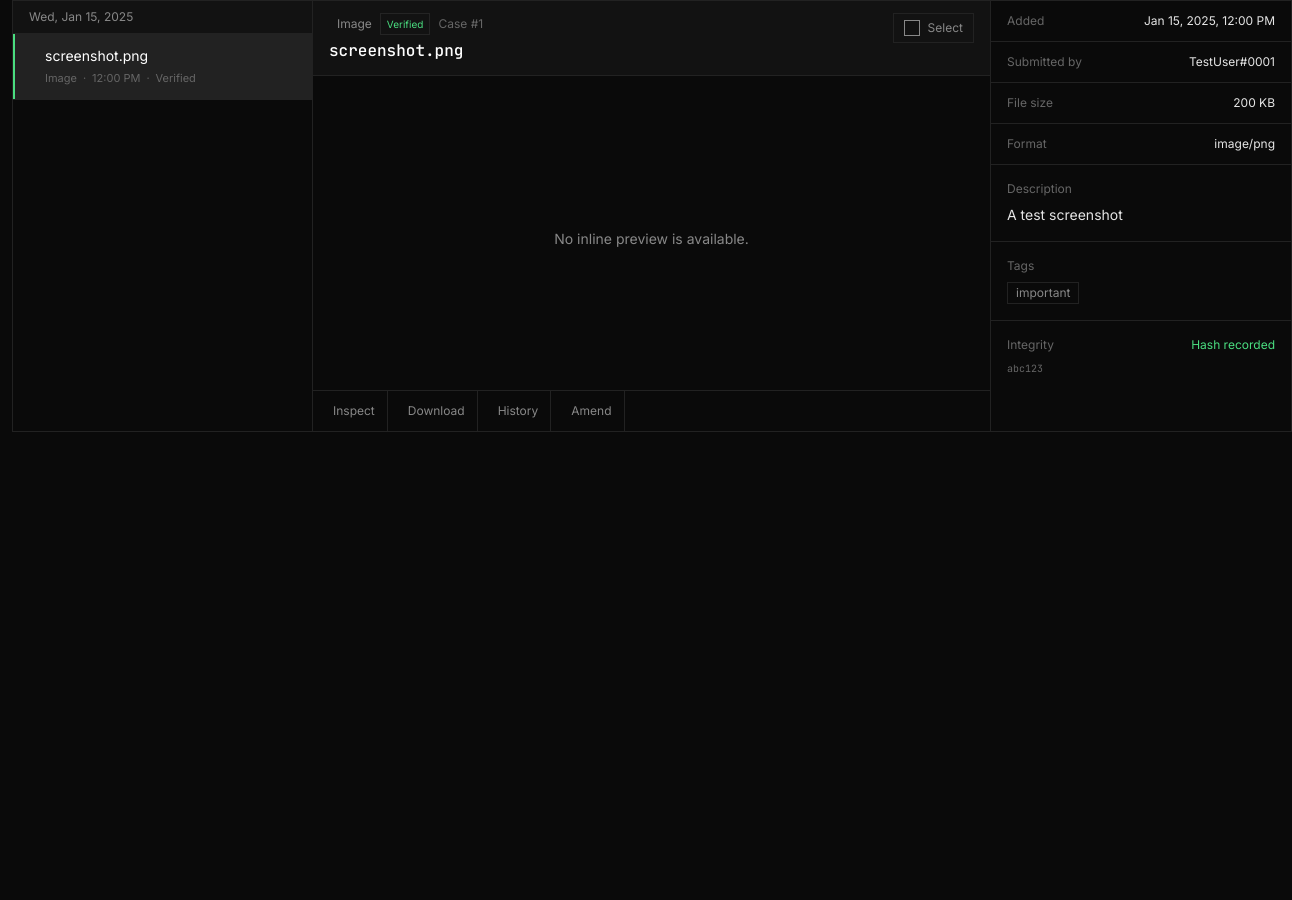
EvidenceGallery › enters bulk-selection mode when an item is selected
Check: the text "selected" is not shown
Click the button with aria-label "Select screenshot.png": (933, 28) [893,13,974,43]
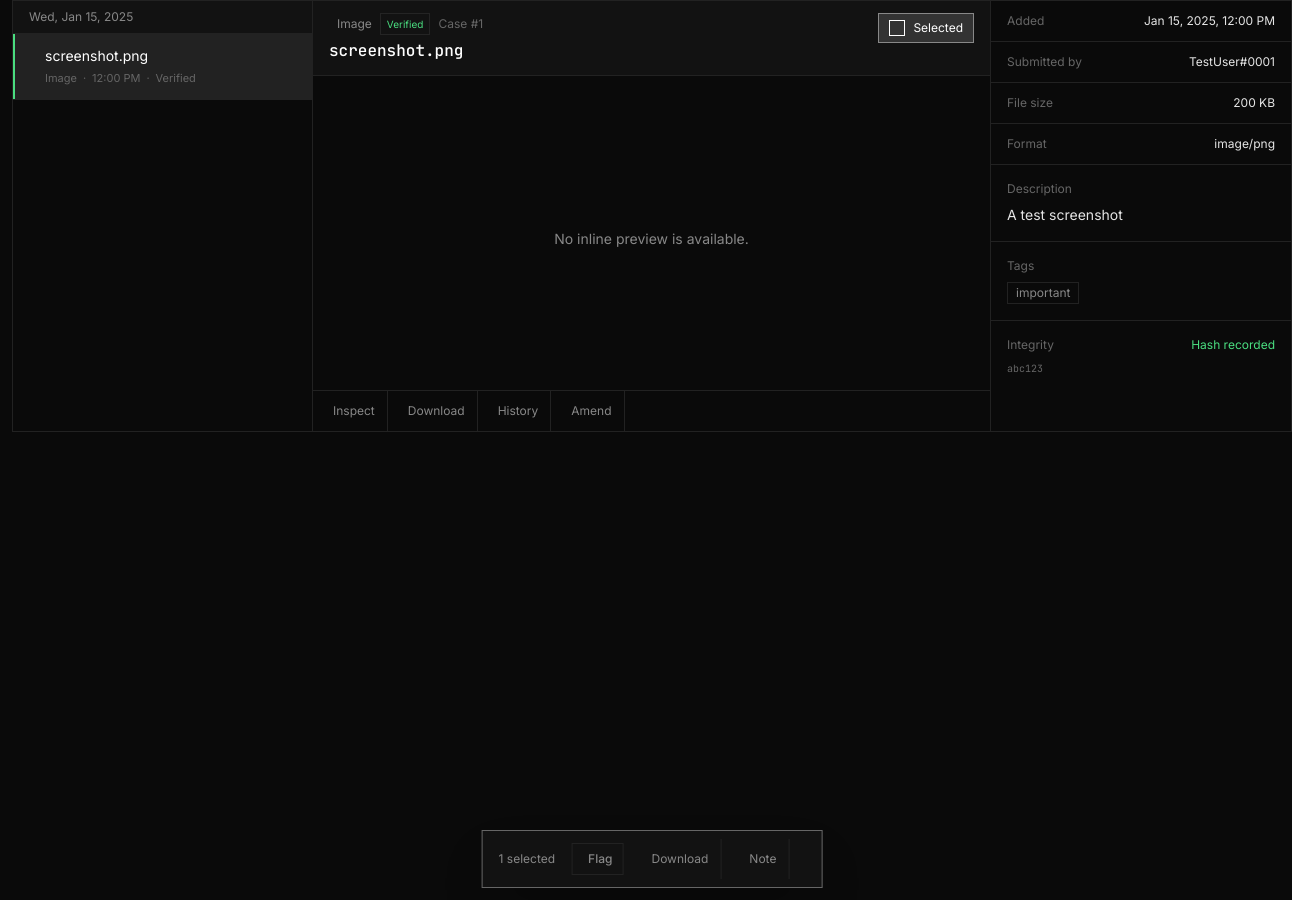
Check: the text "1 selected" is shown, box [499,851,555,866]
